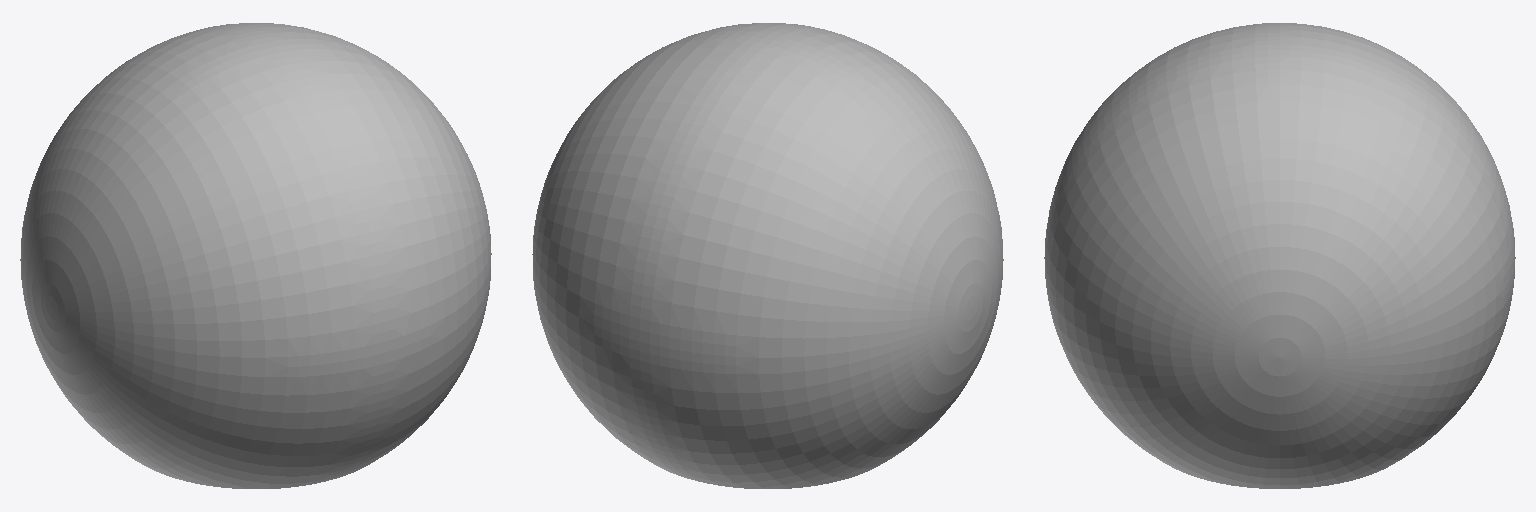
URDF robot description (root):
<robot name="root">
  <link name="link_001">
    <visual>
      <origin xyz="0 0 0" rpy="0 0 0"/>
      <geometry>
        <mesh filename="spheresmall.obj" scale="1.2500E+00 1.2500E+00 1.2500E+00"/>
      </geometry>
      <material name="">
        <color rgba="7.50E-01 7.50E-01 7.50E-01 1"/>
      </material>
    </visual>
    <collision>
      <origin xyz="0 0 0" rpy="0 0 0"/>
      <geometry>
        <mesh filename="spheresmall.obj" scale="1.2500E+00 1.2500E+00 1.2500E+00"/>
      </geometry>
    </collision>
    <inertial>
      <mass value="0.16"/> <!-- 质量：0.1kg -->
    </inertial>
  </link>
</robot>

--- What the picture shows (computed from the rendered views, not written in the file) ---
The picture shows the robot from 3 angles, left to right: view 1: azimuth 30°, elevation 25°; view 2: azimuth 150°, elevation 25°; view 3: azimuth 270°, elevation 25°; orthographic projection.
Model root with 1 links and 0 joints (none), rooted at link_001, posed every joint at zero.
Visible links, largest first — view 1: link_001; view 2: link_001; view 3: link_001.
Boxes of the visible links, left/top/right/bottom form: link_001: left=20, top=23, right=491, bottom=488; link_001: left=532, top=23, right=1003, bottom=488; link_001: left=1044, top=23, right=1515, bottom=488.
Size in the robot's own frame: 0.0504 by 0.0504 by 0.0456 metres.
Meshes: 1 distinct files referenced, 1 mesh visuals loaded (1 OBJ).
